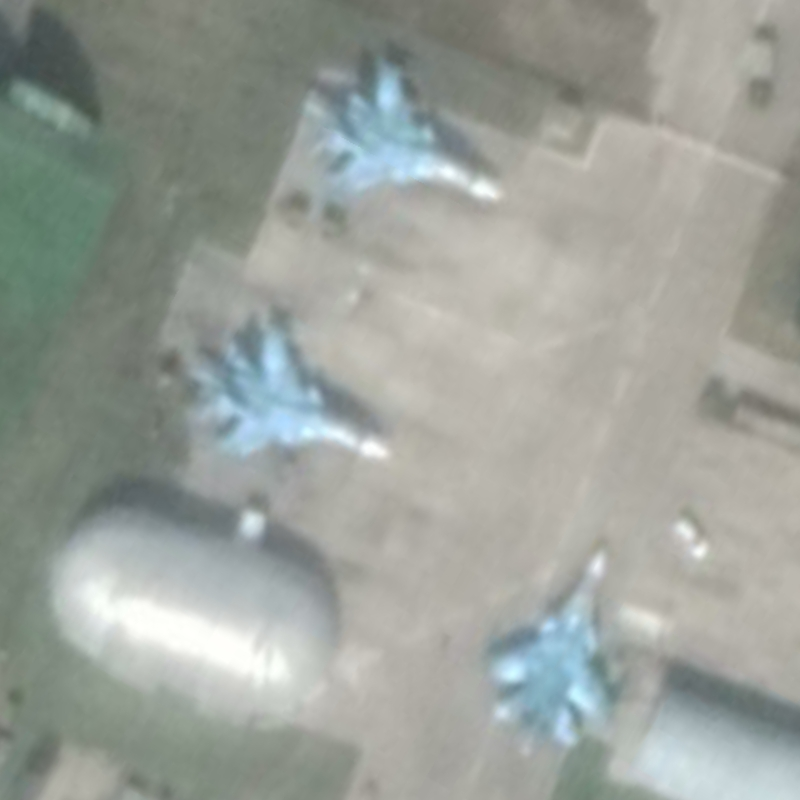A19: (301, 54, 506, 212), (184, 321, 397, 464), (485, 546, 621, 758)
